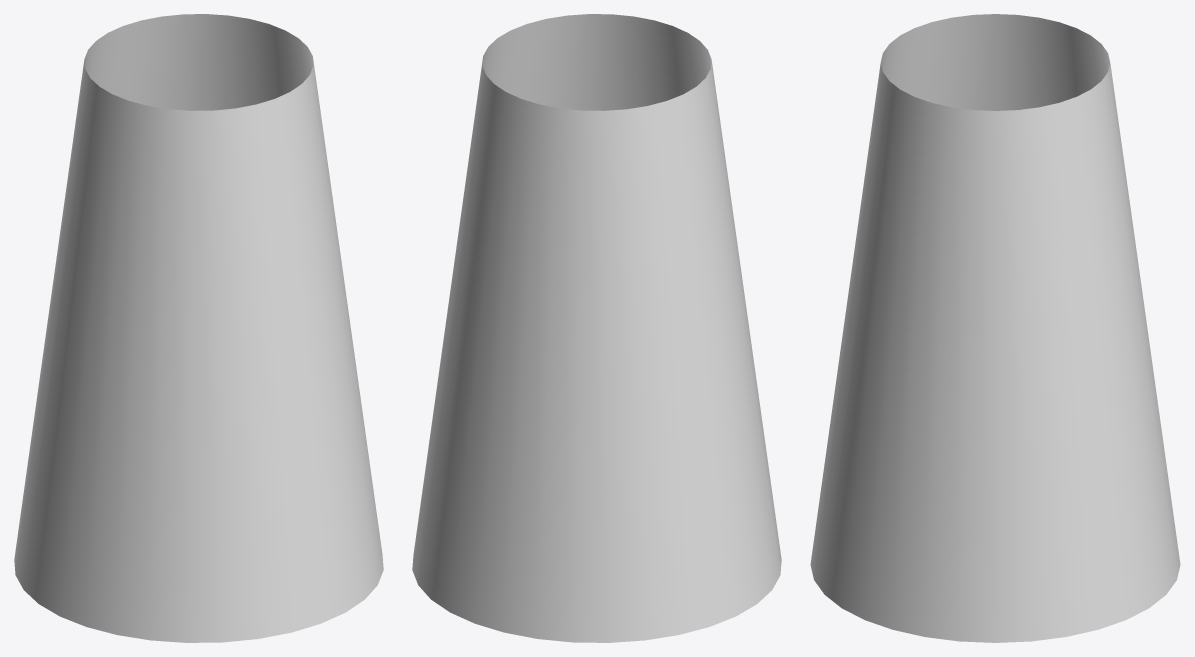
Rendered from LightRays.fbx.
3 views of the same model, side by side, from view 1: azimuth 30°, elevation 25°; view 2: azimuth 150°, elevation 25°; view 3: azimuth 270°, elevation 25° (orthographic).
Visible parts, largest first — view 1: LightRays; view 2: LightRays; view 3: LightRays.
Boxes of the visible parts, x1,y1,x2,y2 form: LightRays: (14,14,383,642); LightRays: (412,14,781,642); LightRays: (810,14,1180,642).
Bounding box in the file's own units: 215 × 322 × 215.
